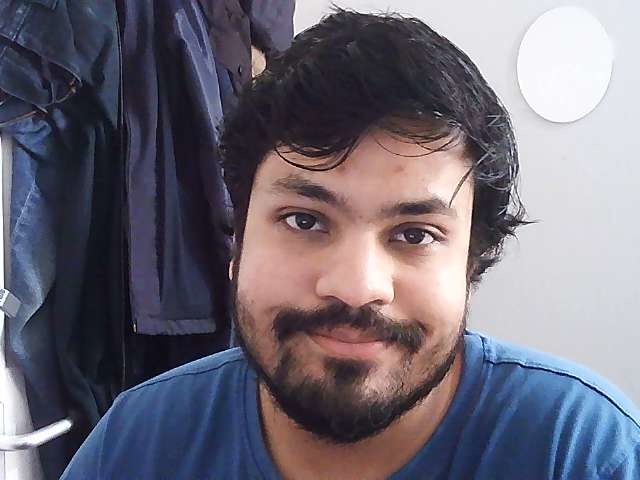Face: (217, 3, 497, 430)
